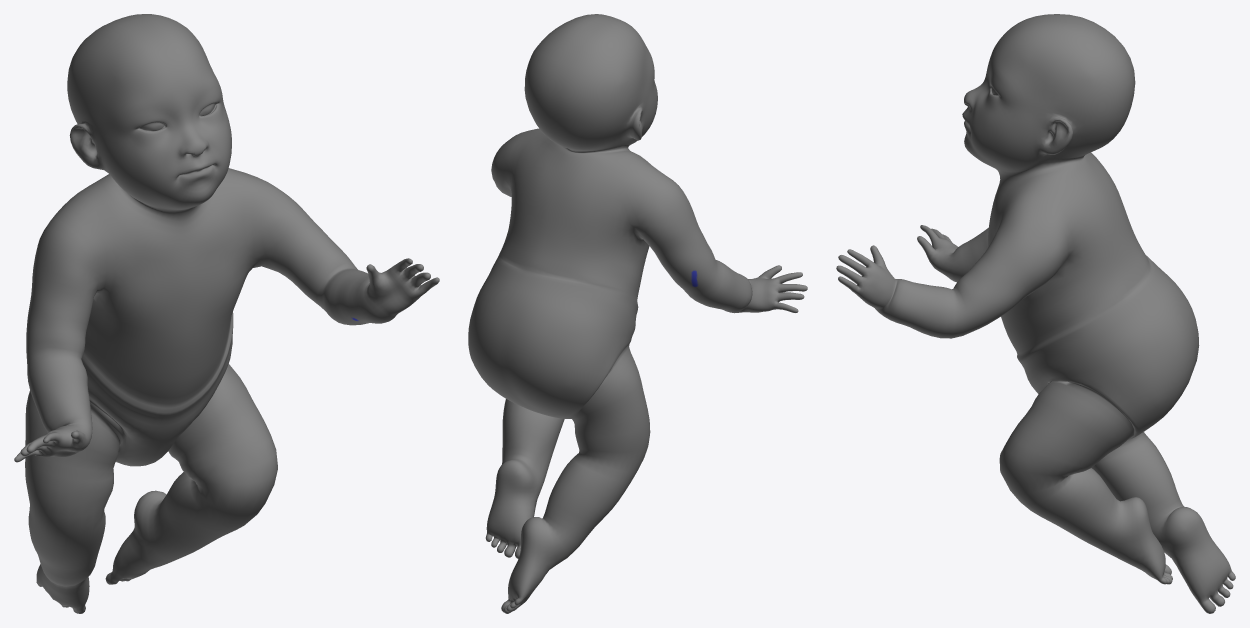
Rendered from babyTpose.glb.
The picture shows the model from 3 angles, left to right: view 1: azimuth 30°, elevation 25°; view 2: azimuth 150°, elevation 25°; view 3: azimuth 270°, elevation 25°; orthographic projection. The views are drawn at different scales.
Visible parts, largest first — view 1: node_id3; view 2: node_id3; view 3: node_id3.
Boxes of the visible parts, x1,y1,x2,y2 form: node_id3: (14,14,439,613); node_id3: (468,14,807,613); node_id3: (836,14,1235,613).
Size of the model in its own units: 0.3101 by 0.539 by 0.3336.
1 material, 1 textured.
